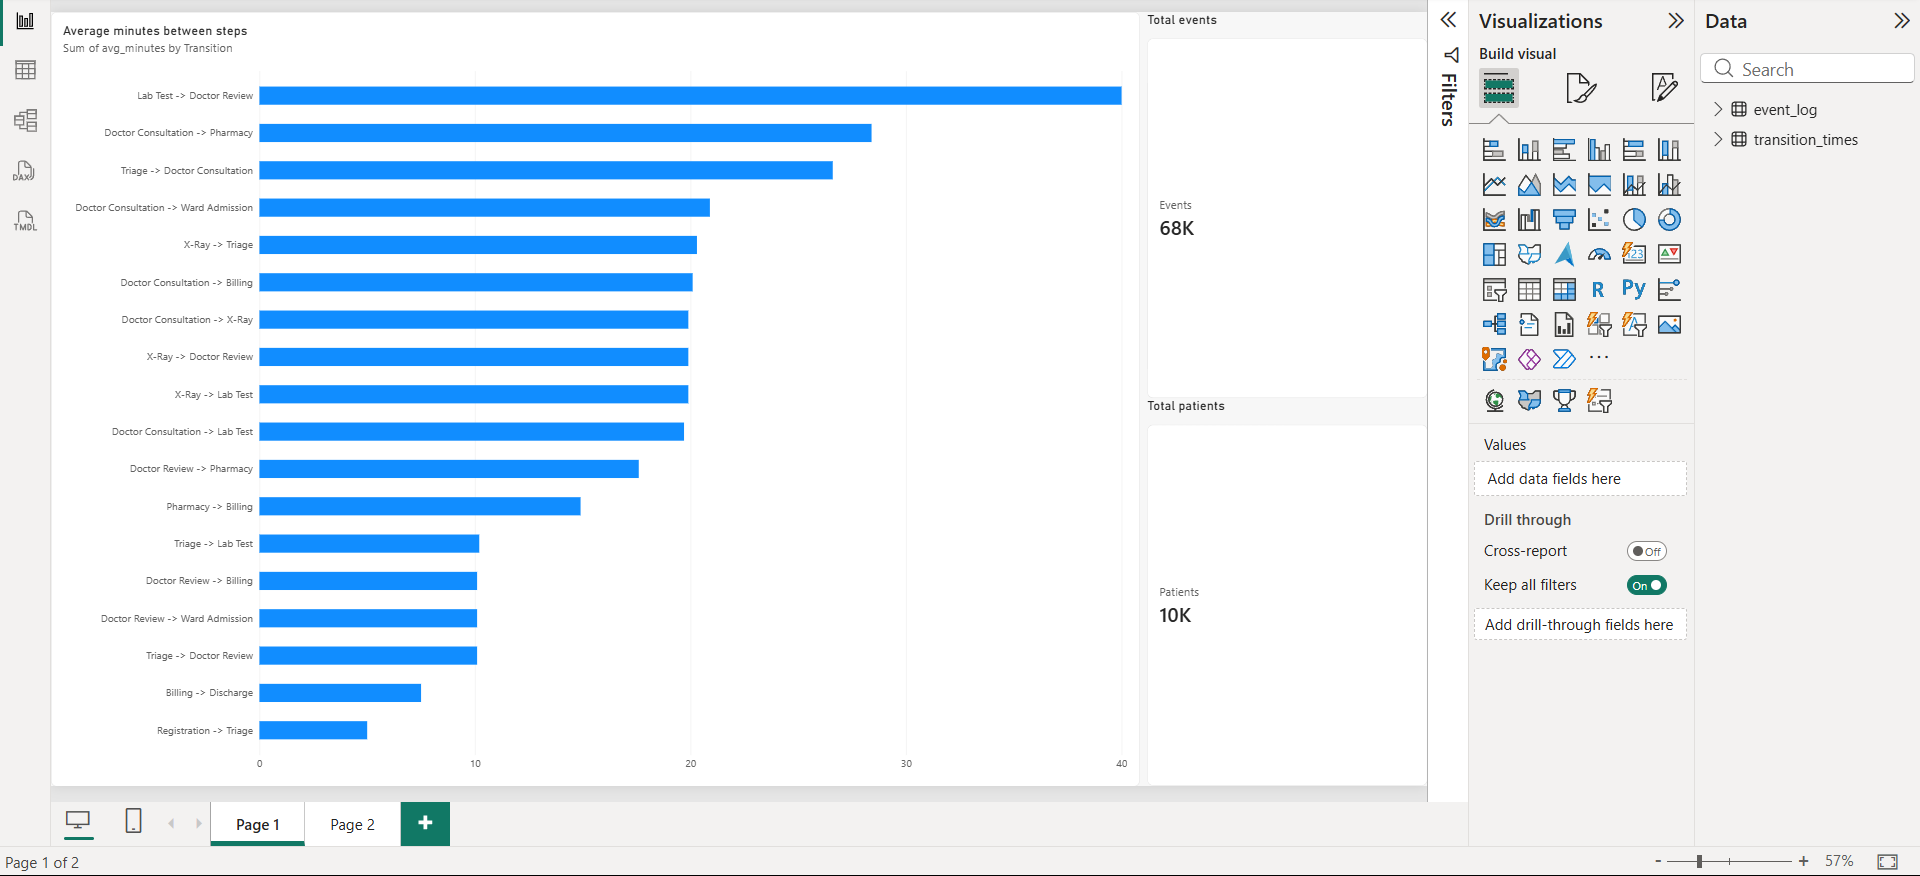

This screenshot's page, from the dashboard's own definition file:
{"tool":"powerbi","page":{"name":"Page 1","canvas":[1920,1080],"ordinal":0},"visuals":[{"type":"barChart","title":"Average minutes between steps","fields":{"Category":["transition_times.Transition"],"Y":["Sum(transition_times.avg_minutes)"]},"box":[0,0,1519,1080.6],"z":0},{"type":"cardVisual","title":"Total events","fields":{"Data":["event_log.Events"]},"box":[1529.3,0,391.1,539.3],"z":1000},{"type":"cardVisual","title":"Total patients","fields":{"Data":["event_log.Patients"]},"box":[1529,539,391,541],"z":2000}]}

Visuals, with their boxes on the page's 1920x1080 design canvas (x1, y1, x2, y2). These are canvas units, not pixel positions in the 1920x876 screenshot, which may show the page scaled, cropped or inside an application window:
"Average minutes between steps" barChart: (0,0,1519,1081)
"Total events" cardVisual: (1529,0,1920,539)
"Total patients" cardVisual: (1529,539,1920,1080)
